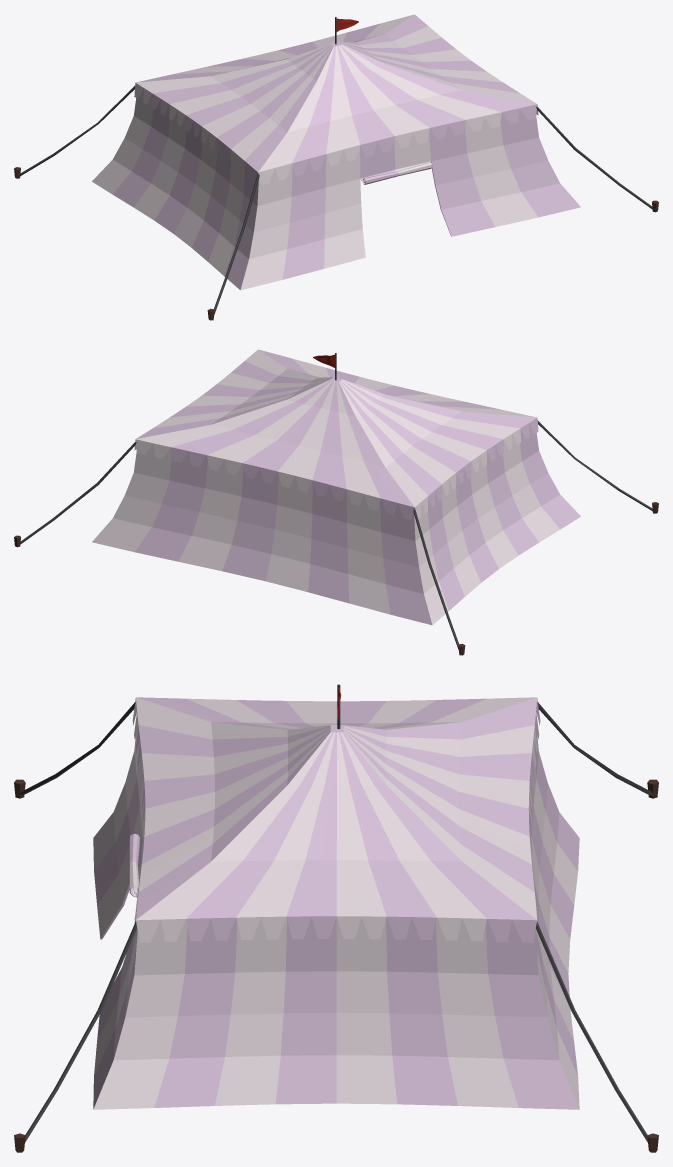
Rendered from squareTent.fbx.
3 renders of one model, top to bottom at view 1: azimuth 30°, elevation 25°; view 2: azimuth 150°, elevation 25°; view 3: azimuth 270°, elevation 25°, orthographic. The views are drawn at different scales.
Parts seen in each view (by area): view 1: square_tent; view 2: square_tent; view 3: square_tent.
Boxes of the visible parts, x1=… form: square_tent: x1=14, y1=14, x2=658, y2=320; square_tent: x1=14, y1=349, x2=658, y2=655; square_tent: x1=14, y1=684, x2=658, y2=1152.
Size of the model in its own units: 1016 by 382 by 772.
